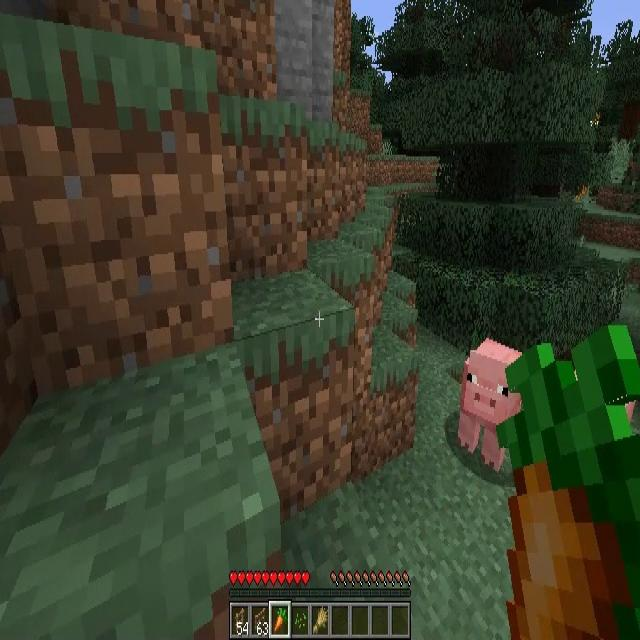pig: (459, 338, 520, 473)
